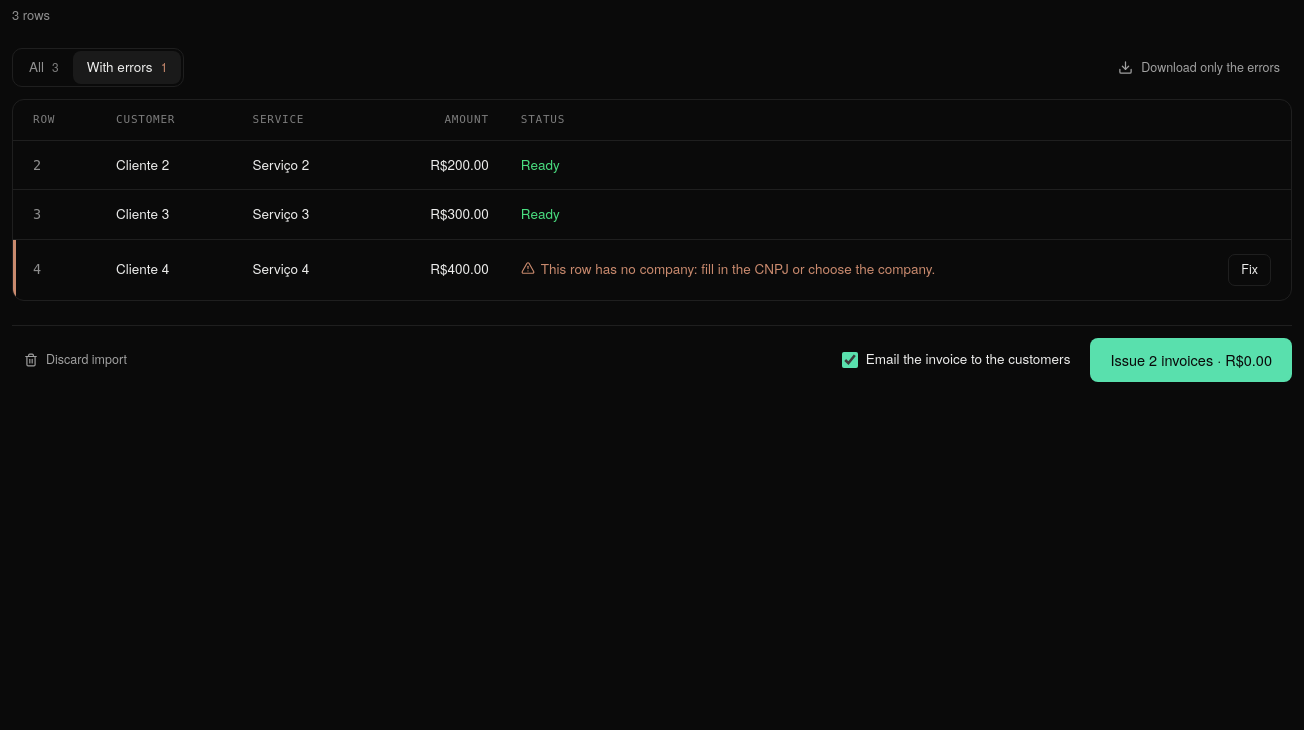
Test case: ImportReview › fixes a row: sends the whole customer and service, then refreshes the counters
The image size is (1304, 730).
Click the button "Fix".
click(1250, 270)  # box x1=1228 y1=254 x2=1271 y2=286
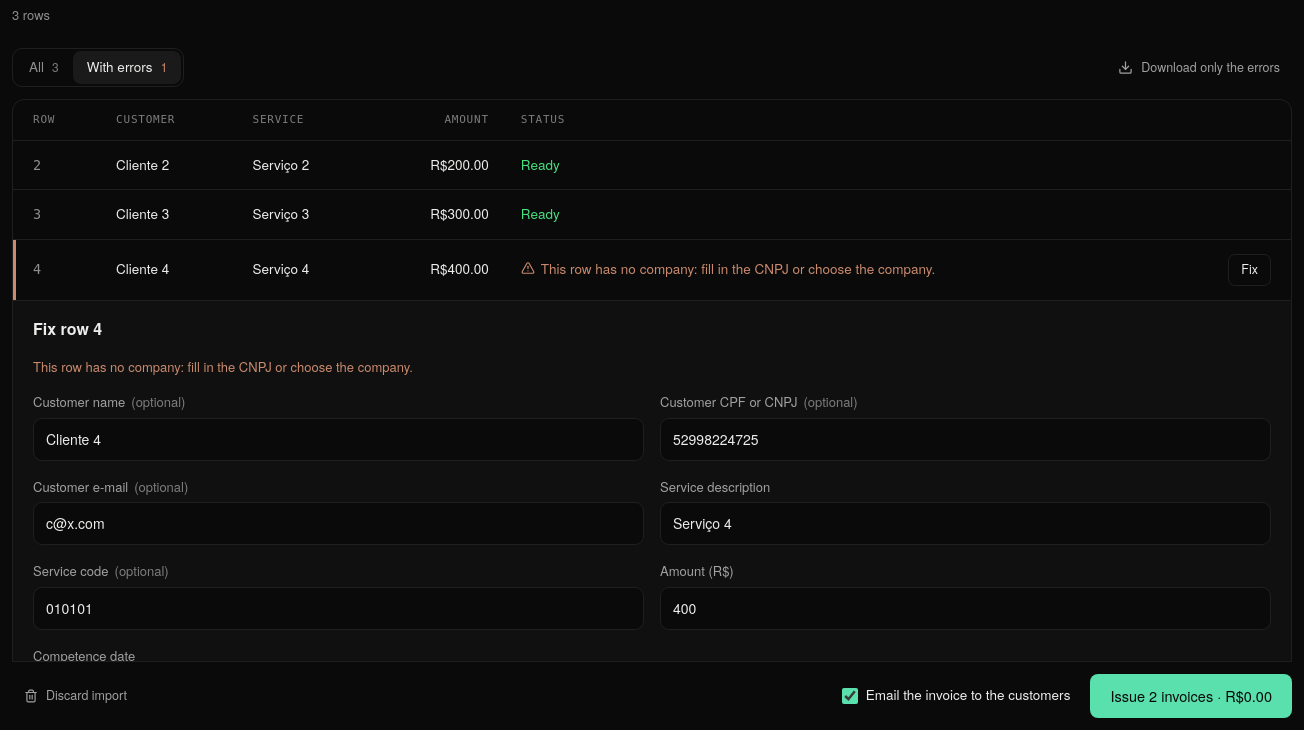
Replace the text in the field labelled "Customer e-mail(optional)" with "novo@x.com" at (338, 524), box x1=33 y1=502 x2=644 y2=545
(page scrolled)
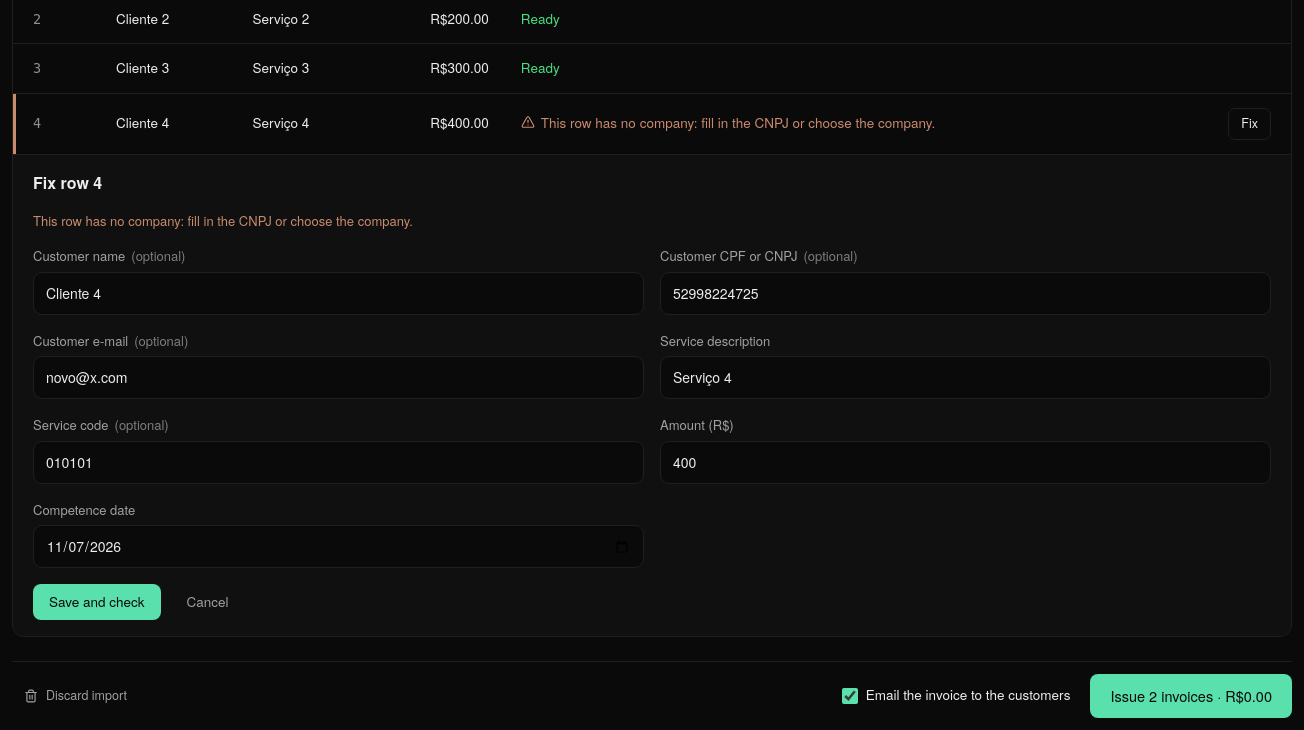
Click the button "Save and check".
click(97, 602)  # box x1=33 y1=584 x2=161 y2=620
(page scrolled)
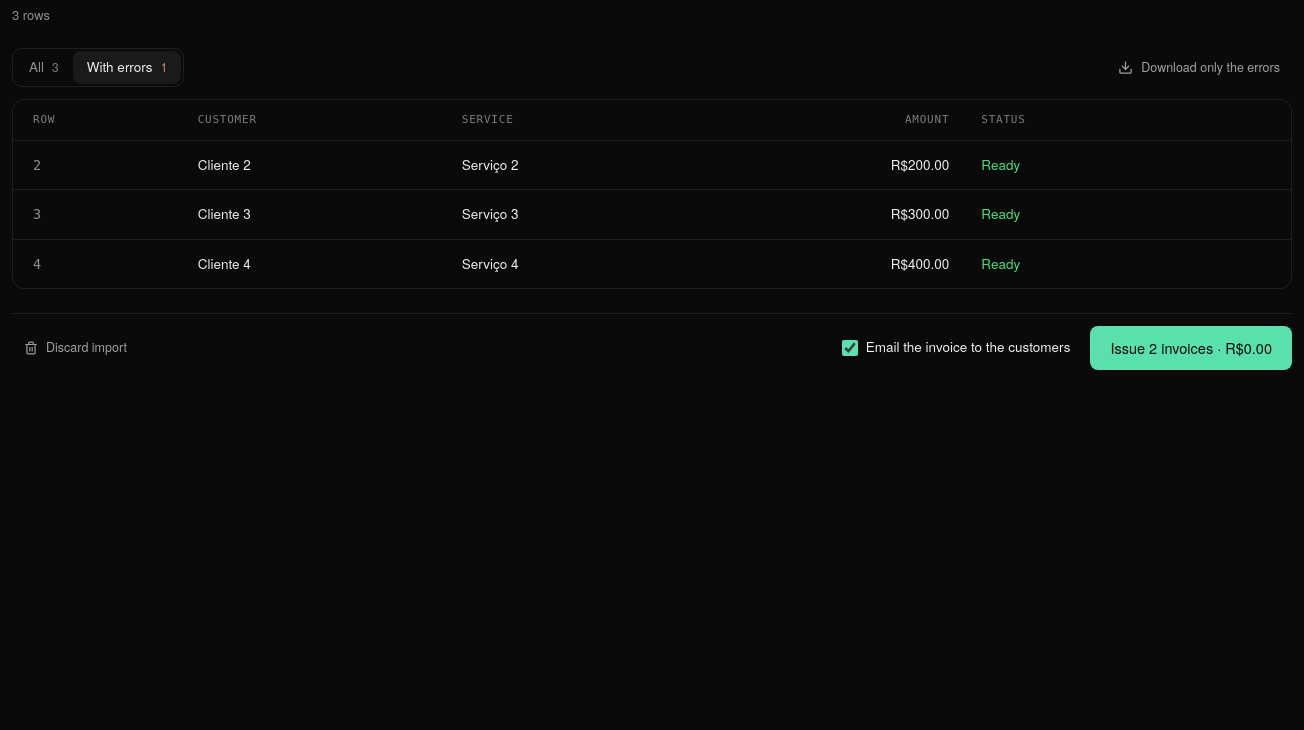
Expected: the label labelled "Customer e-mail" is gone
